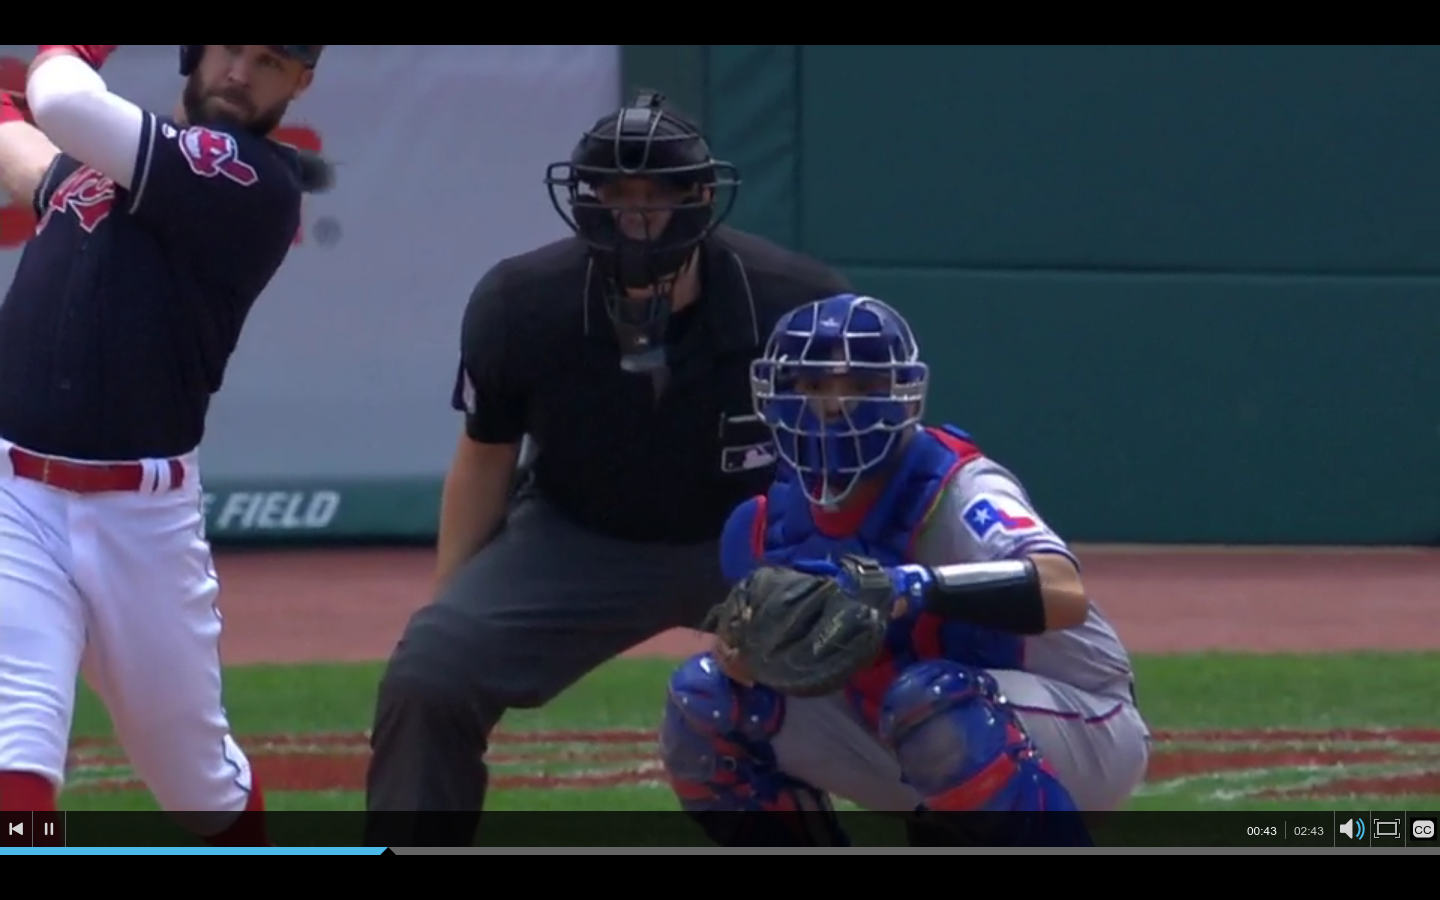baseball player: (655, 299, 1155, 811), (2, 46, 332, 809)
referee: (359, 88, 881, 806)
